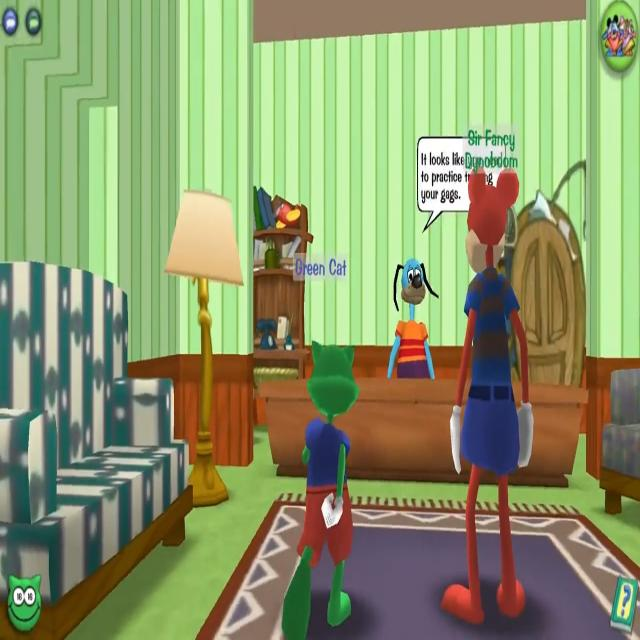npc: (384, 254, 439, 398)
